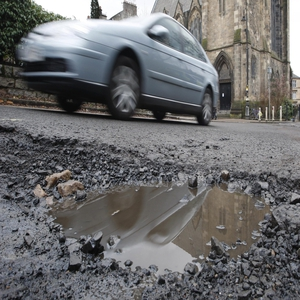pothole: (1, 122, 300, 290)
